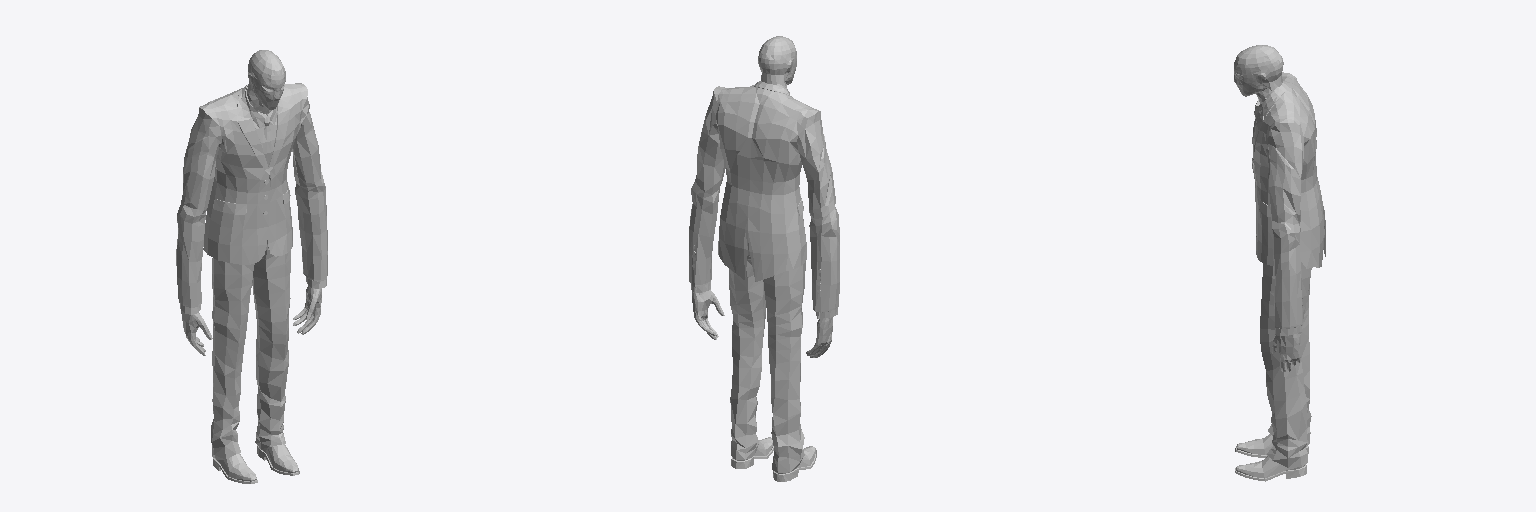
File: slenderman.obj
The picture shows the model from 3 angles: view 1: azimuth 30°, elevation 25°; view 2: azimuth 150°, elevation 25°; view 3: azimuth 270°, elevation 25°; orthographic projection.
Visible parts, largest first — view 1: Object_9; view 2: Object_9; view 3: Object_9.
Boxes of the visible parts, x1=… form: Object_9: x1=176, y1=50, x2=327, y2=483; Object_9: x1=689, y1=36, x2=839, y2=481; Object_9: x1=1234, y1=45, x2=1325, y2=481.
Bounding box in the file's own units: 223 × 606 × 121.